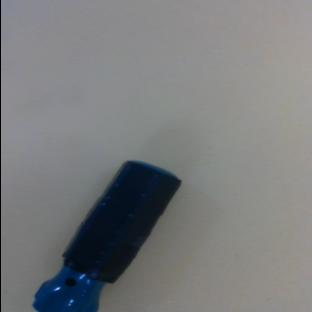part_2_bad: (27, 148, 184, 312)
